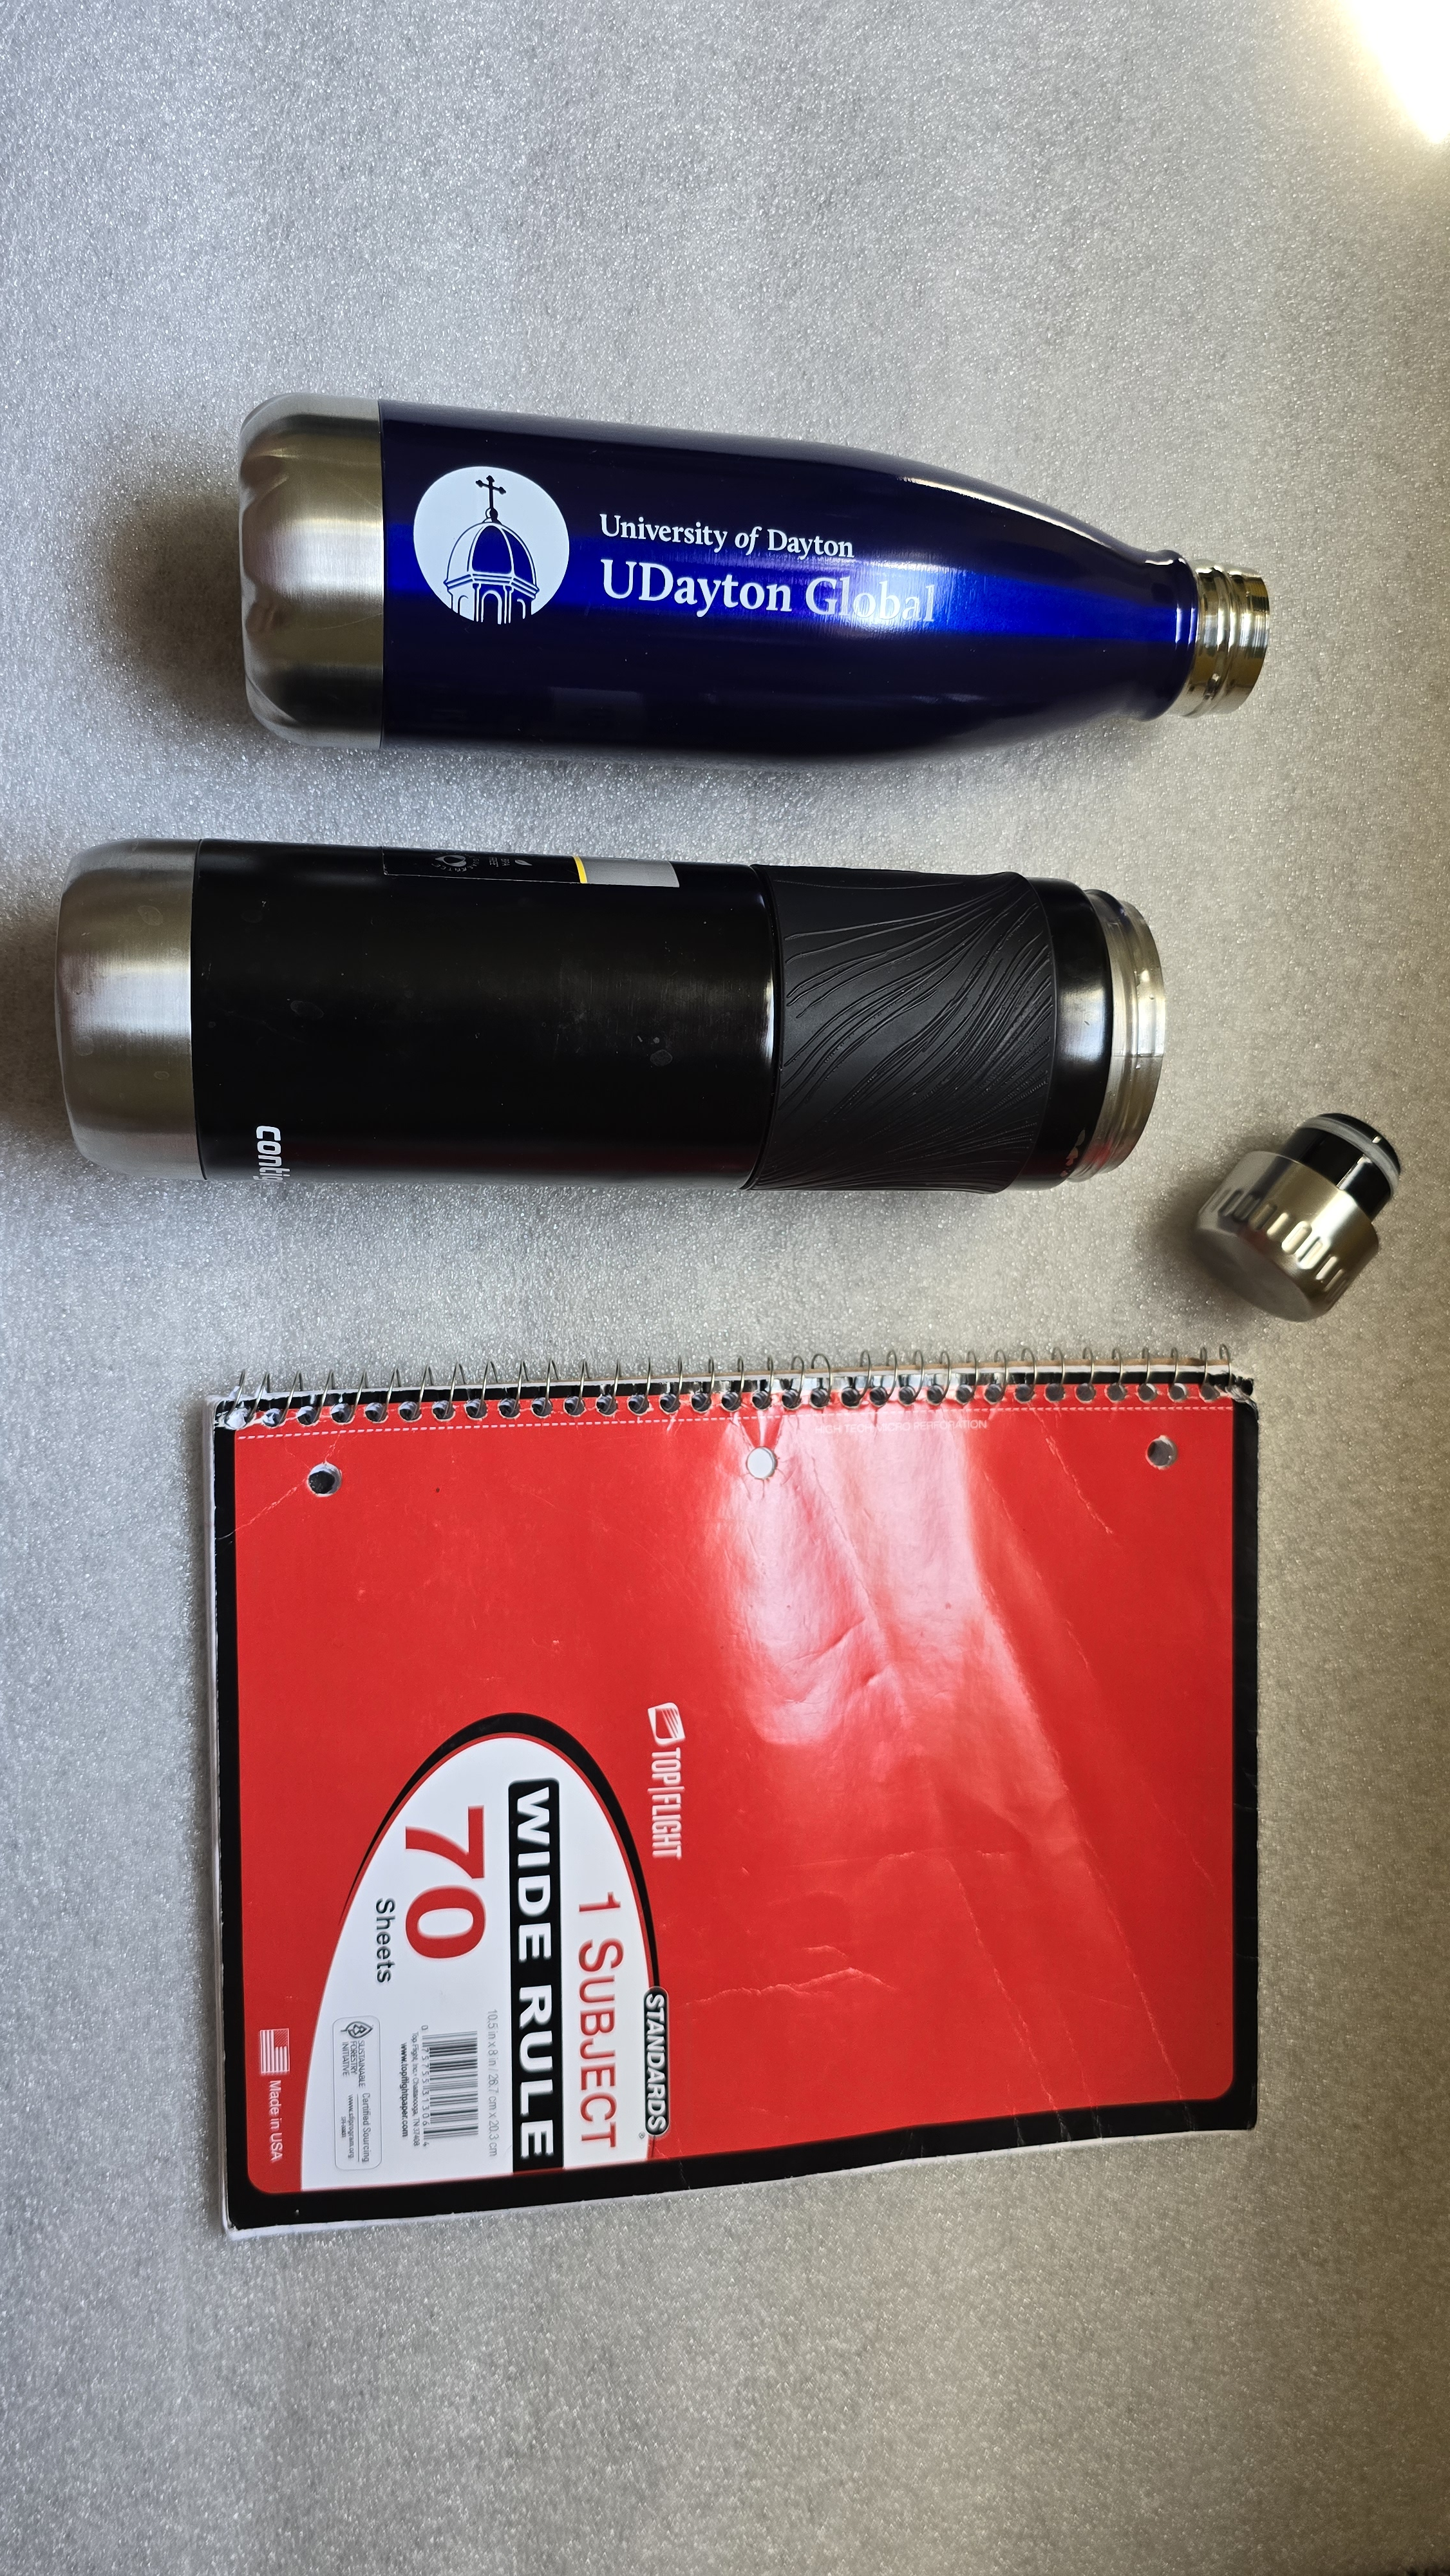bottle: (35, 812, 1183, 1221), (203, 364, 1273, 778)
